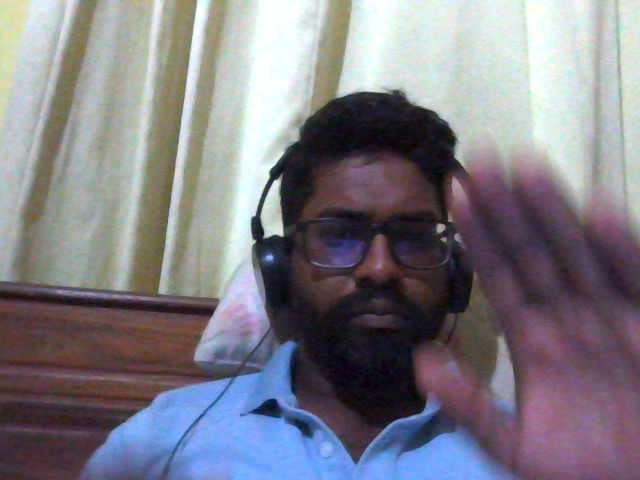Hello: (382, 130, 640, 480)
